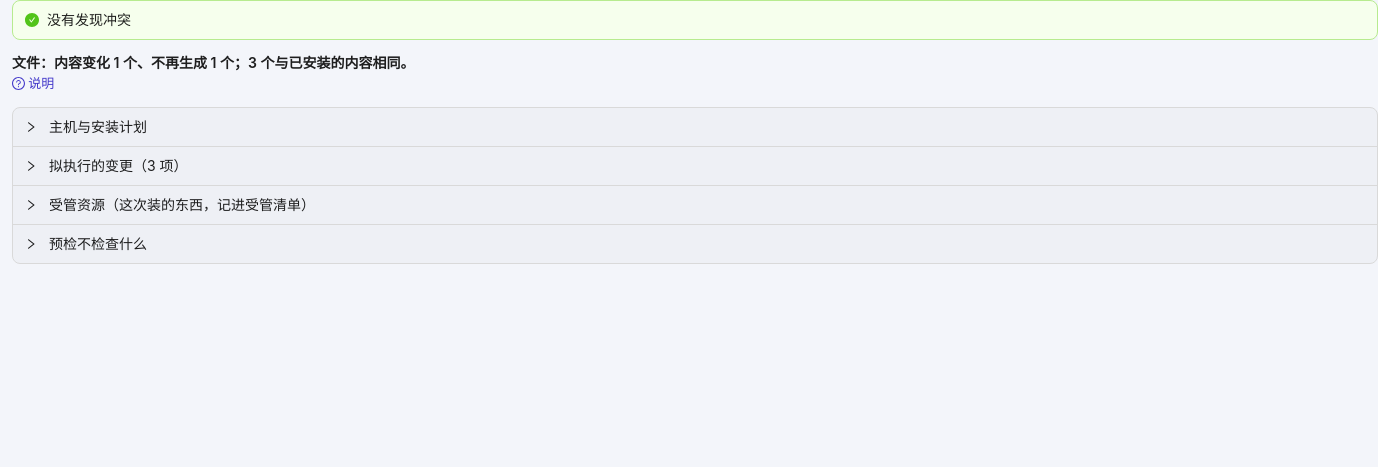
Test: preflight file list › lists what changes first and counts the unchanged files
Expected: the element with test id "preflight-file-summary" shows "内容变化 1 个", [12,54,414,71]
Click the button "拟执行的变更（3 项）": x=106, y=165 [25,157,188,174]
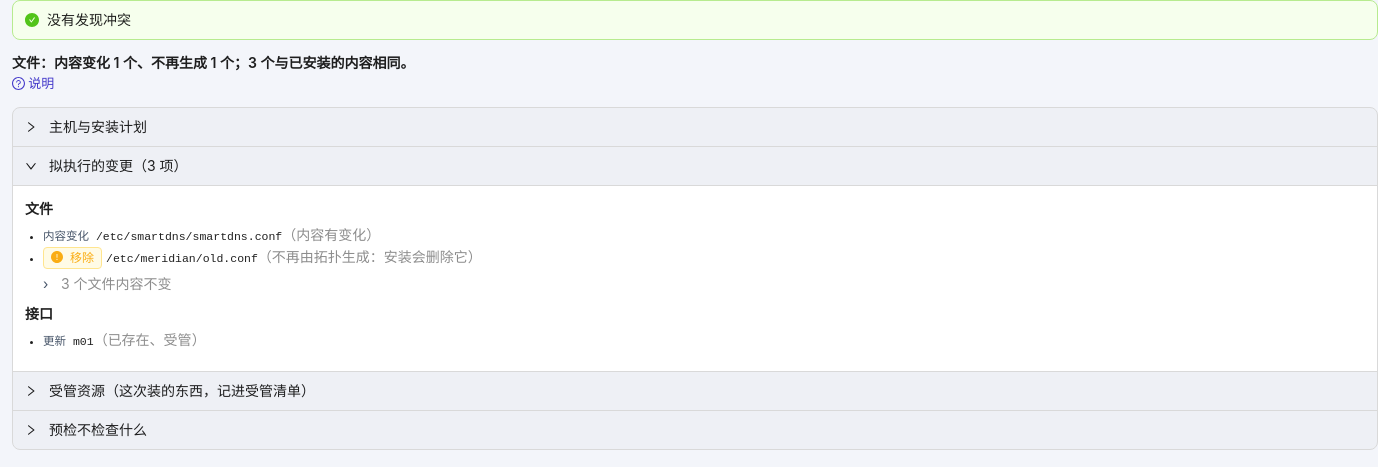
Now the element with test id "preflight-unchanged" reads "3 个文件内容不变", box [61,275,172,292]
